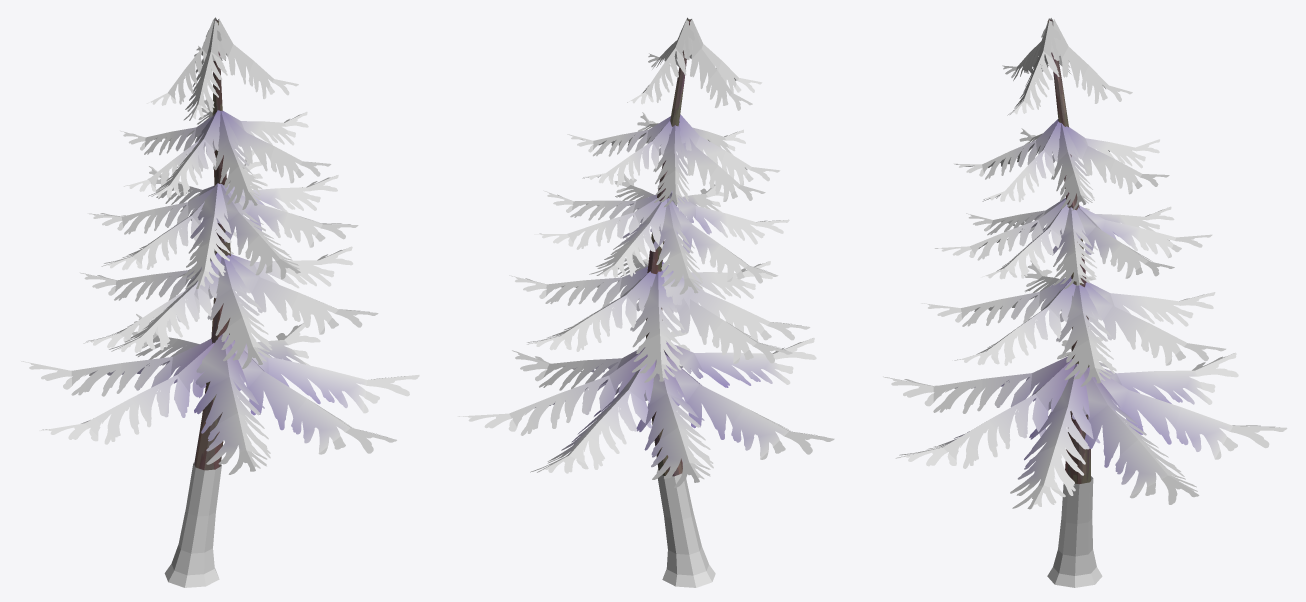
File: tree_01_garden.fbx
The picture shows the model from 3 angles, left to right: view 1: azimuth 30°, elevation 25°; view 2: azimuth 150°, elevation 25°; view 3: azimuth 270°, elevation 25°; orthographic projection. The views are drawn at different scales.
Visible parts, largest first — view 1: Plane.008, Plane.009, Plane.010, Plane.011, Cube.005, Plane.012, Cube.002; view 2: Plane.008, Plane.009, Plane.010, Plane.011, Cube.005, Plane.012, Cube.002; view 3: Plane.008, Plane.009, Plane.010, Plane.011, Cube.005, Plane.012, Cube.002.
Boxes of the visible parts, x1,y1,x2,y2 form: Plane.008: (21, 314, 419, 474); Plane.009: (79, 242, 378, 368); Plane.010: (87, 150, 358, 288); Plane.011: (120, 99, 331, 209); Cube.005: (164, 462, 221, 587); Plane.012: (146, 17, 298, 120); Cube.002: (194, 20, 230, 470); Plane.008: (457, 319, 834, 487); Plane.009: (509, 237, 810, 382); Plane.010: (534, 173, 789, 294); Plane.011: (567, 112, 780, 207); Cube.005: (657, 468, 715, 587); Plane.012: (627, 17, 762, 110); Cube.002: (646, 19, 690, 476); Plane.008: (883, 336, 1287, 509); Plane.009: (921, 260, 1225, 386); Plane.010: (935, 197, 1212, 289); Plane.011: (953, 119, 1169, 210); Cube.005: (1047, 476, 1102, 587); Plane.012: (1002, 18, 1132, 115); Cube.002: (1047, 20, 1090, 484).
Bounding box in the file's own units: 2081 × 3088 × 2049.
